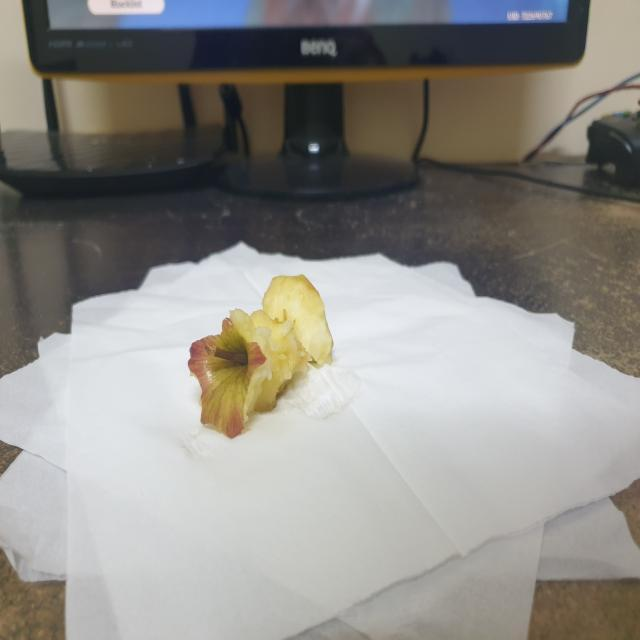apple: (179, 265, 345, 452)
